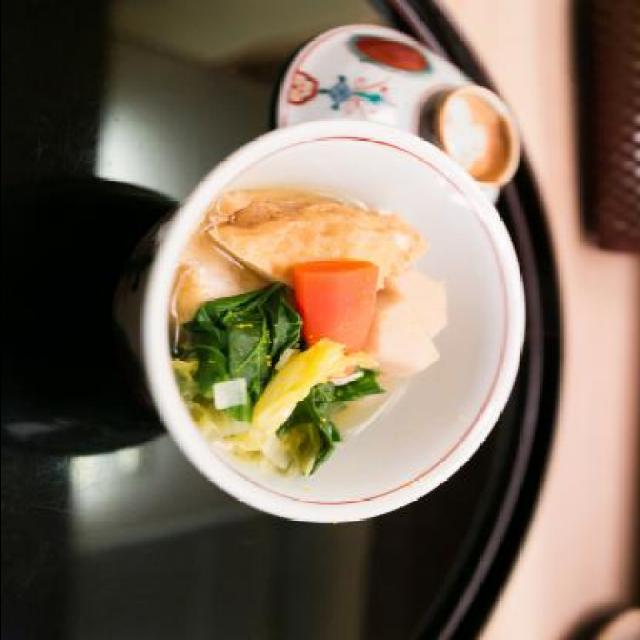Salad: (168, 240, 464, 486)
